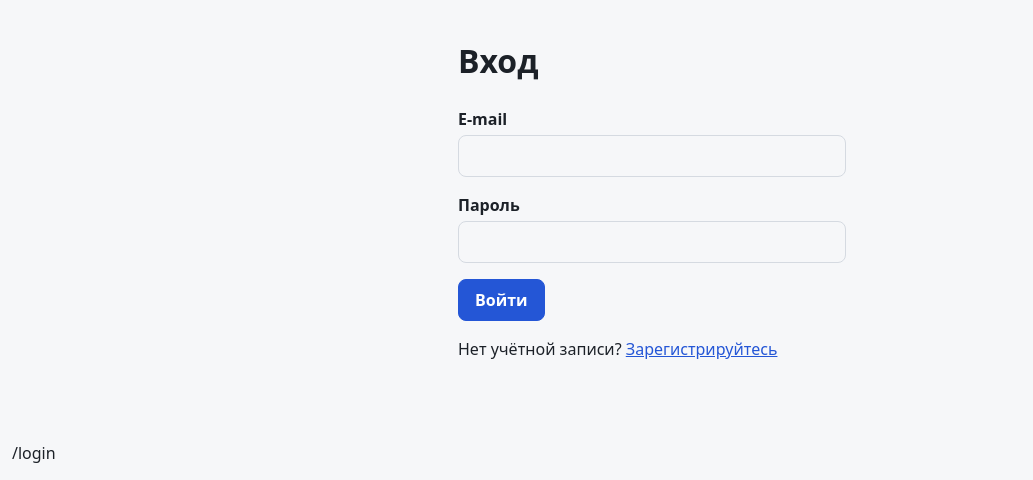
Test case: защита маршрутов › без сессии уводит на вход, после входа возвращает на исходный адрес
This screenshot has width=1033, height=480.
Expected: the heading "Вход" is shown, [458,39,538,82]
Expected: the text with test id "location" reads "/login", [12,442,56,464]
Type "ivan@example.com" into the field labelled "E-mail" at x=652, y=156, box [458,135,846,177]
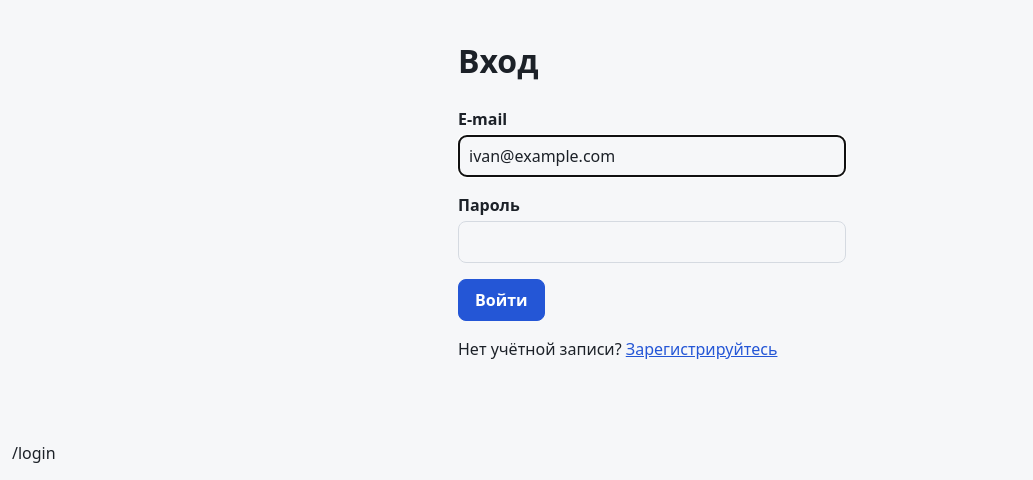
Type "correct-horse-battery" into the password field labelled "Пароль" at x=652, y=242, box [458,221,846,263]
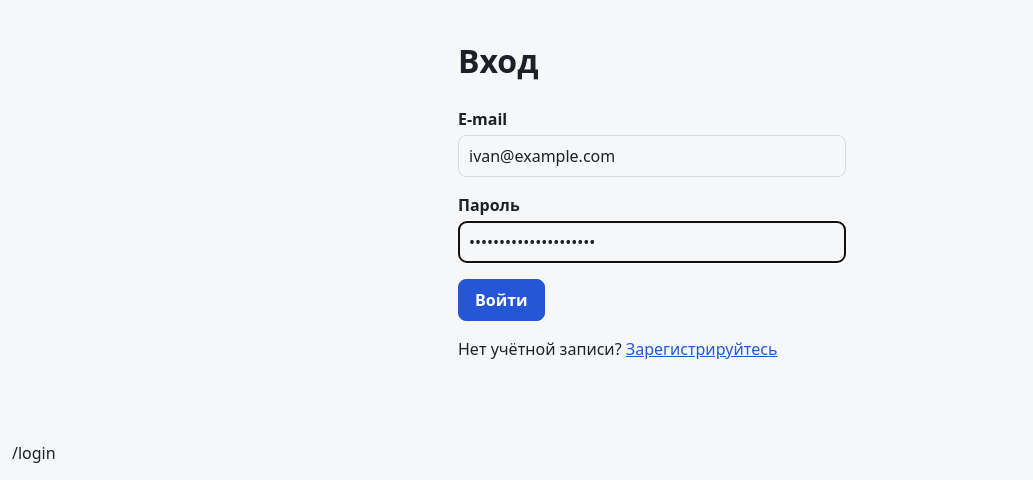
Click the button "Войти" at x=501, y=300, box [458,279,544,321]
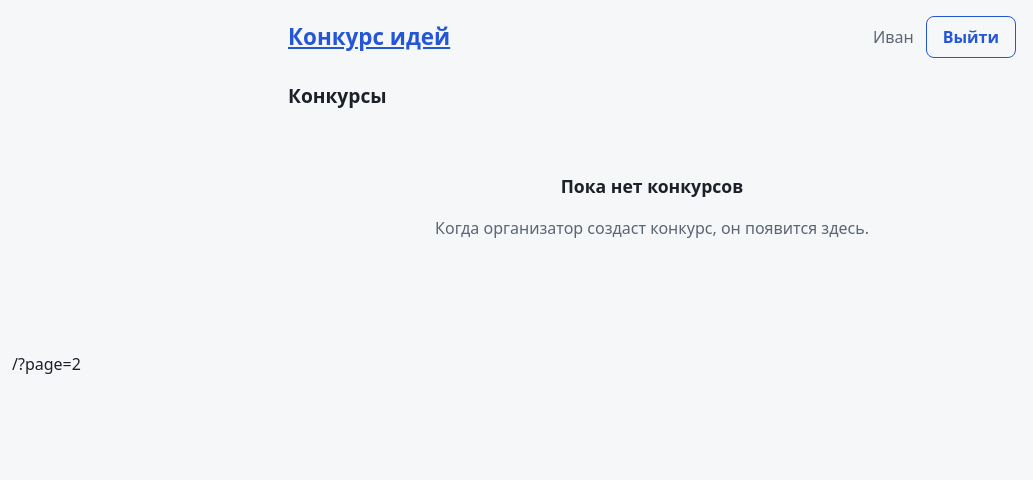
Expected: the heading "Конкурсы" is shown, [288,82,387,111]
Expected: the text with test id "location" reads "/?page=2", [12,353,81,375]
